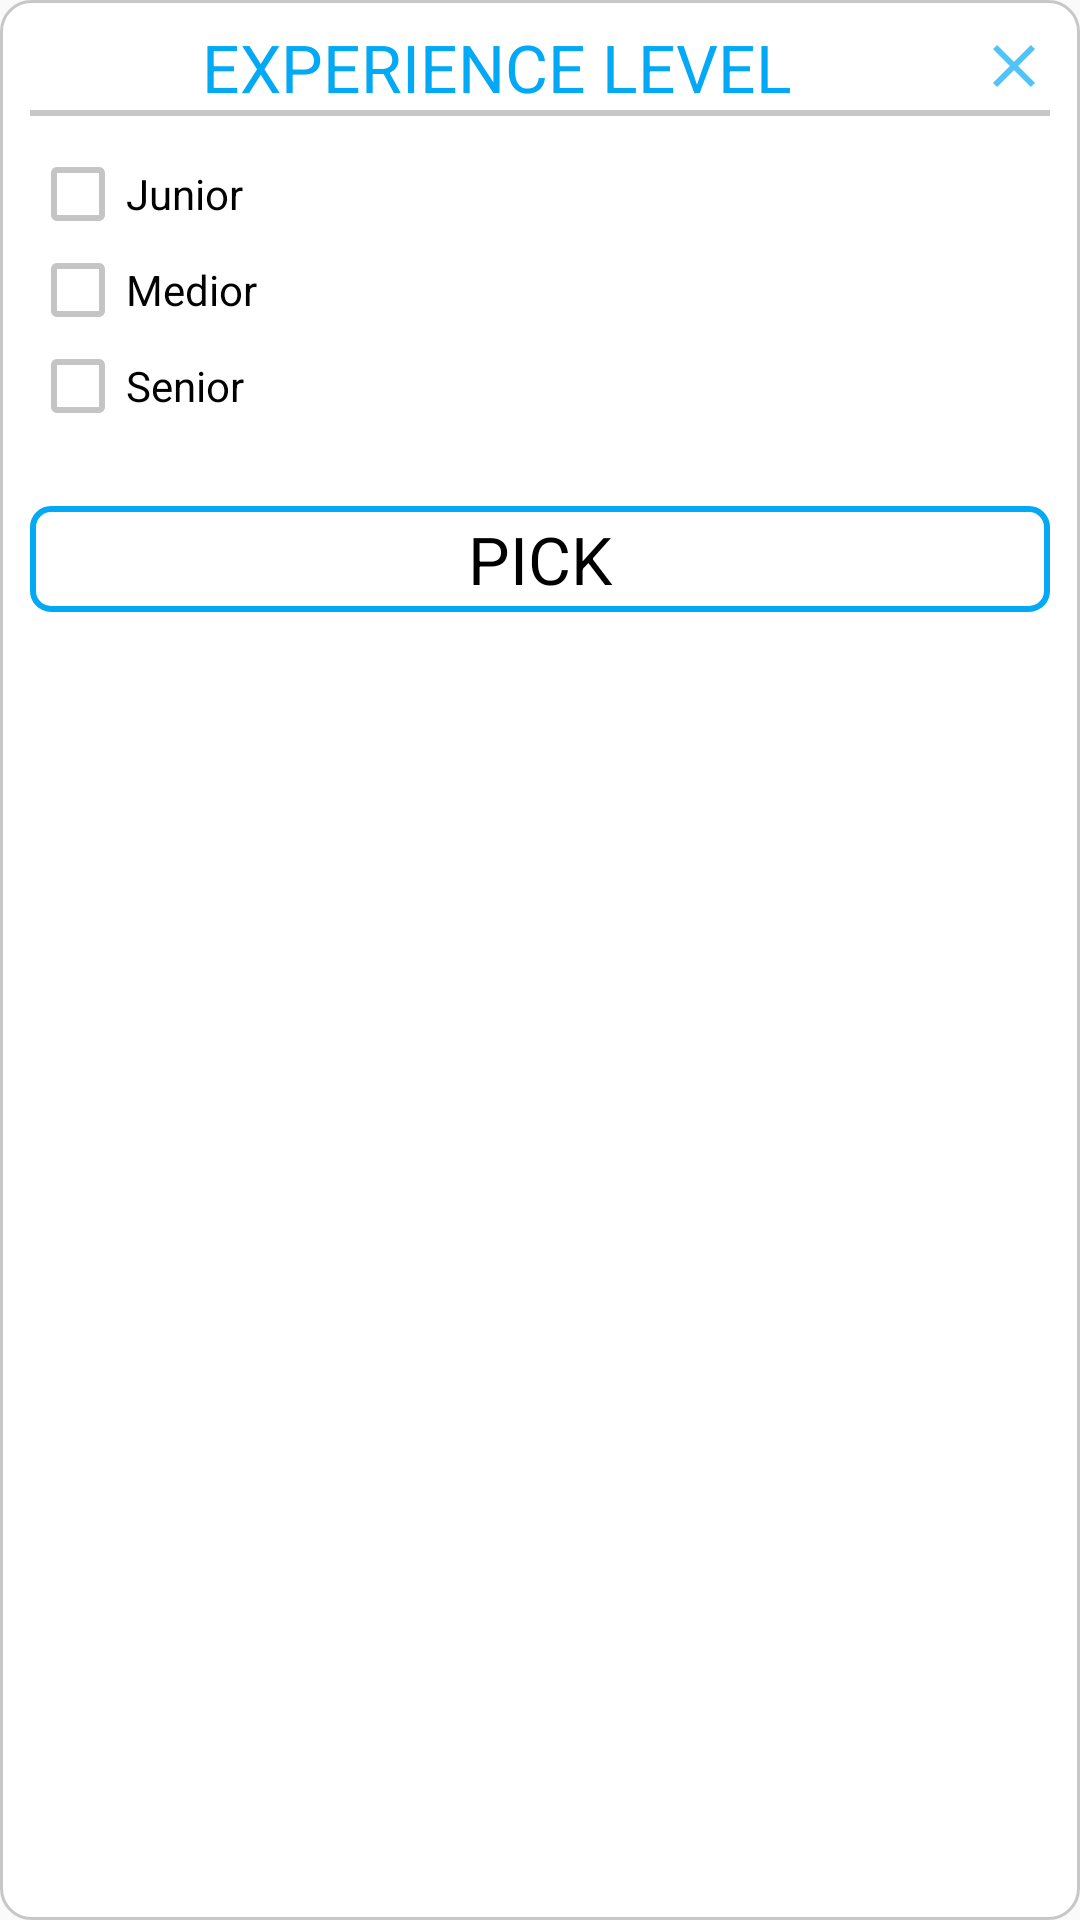

Icons on this 1080*1920 Android screen, each with its box as (x1, y1, x2, y2):
close: (993, 45, 1035, 87)
